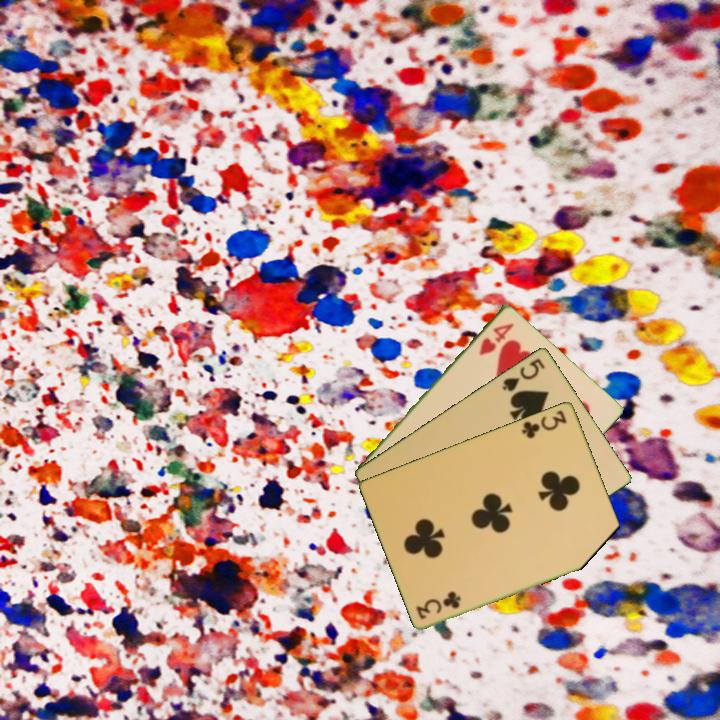3c: (518, 406, 570, 441), (413, 589, 464, 622)
4h: (475, 319, 517, 358)
5s: (498, 354, 548, 394)
